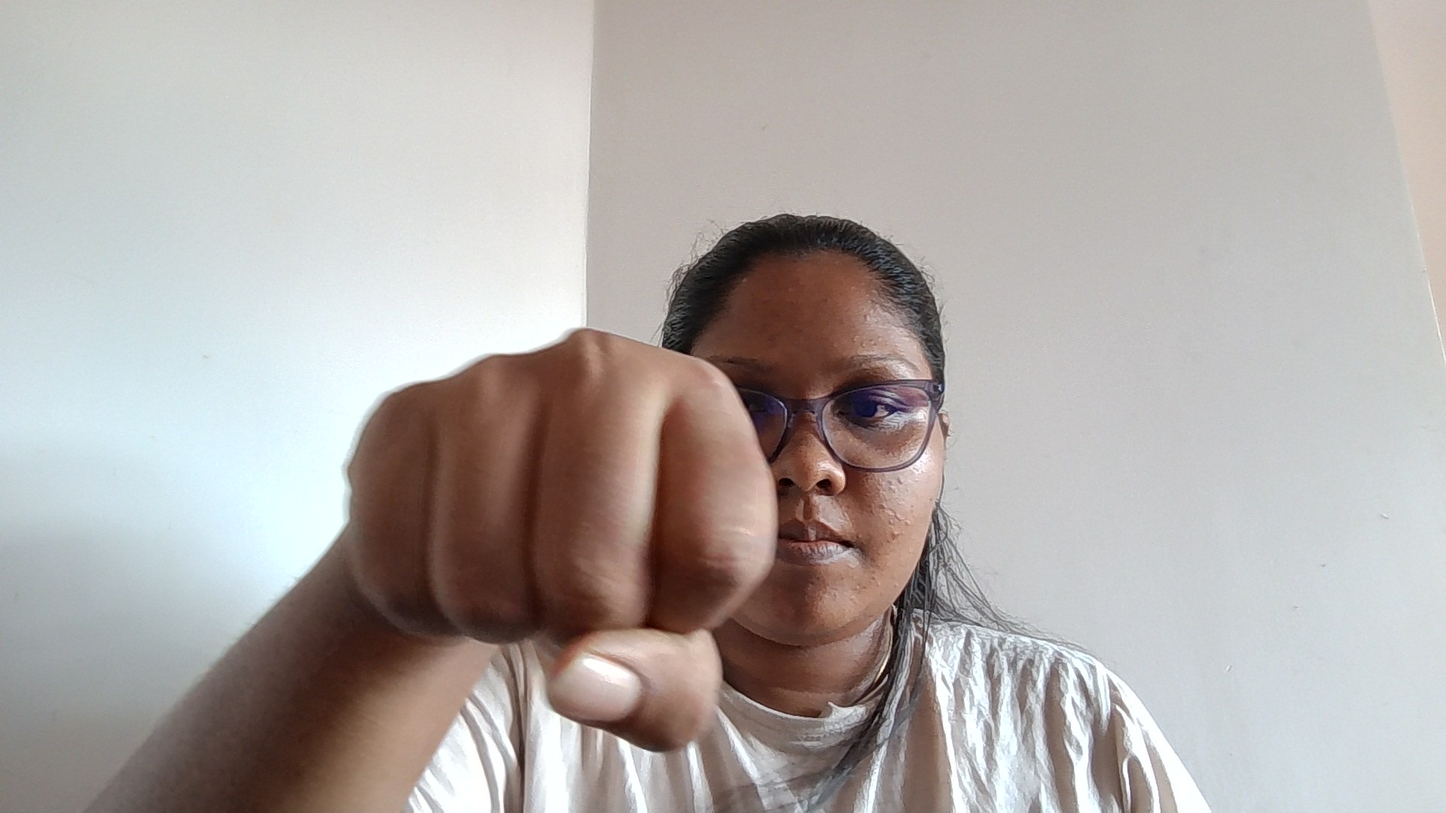Yes: (222, 262, 790, 778)
